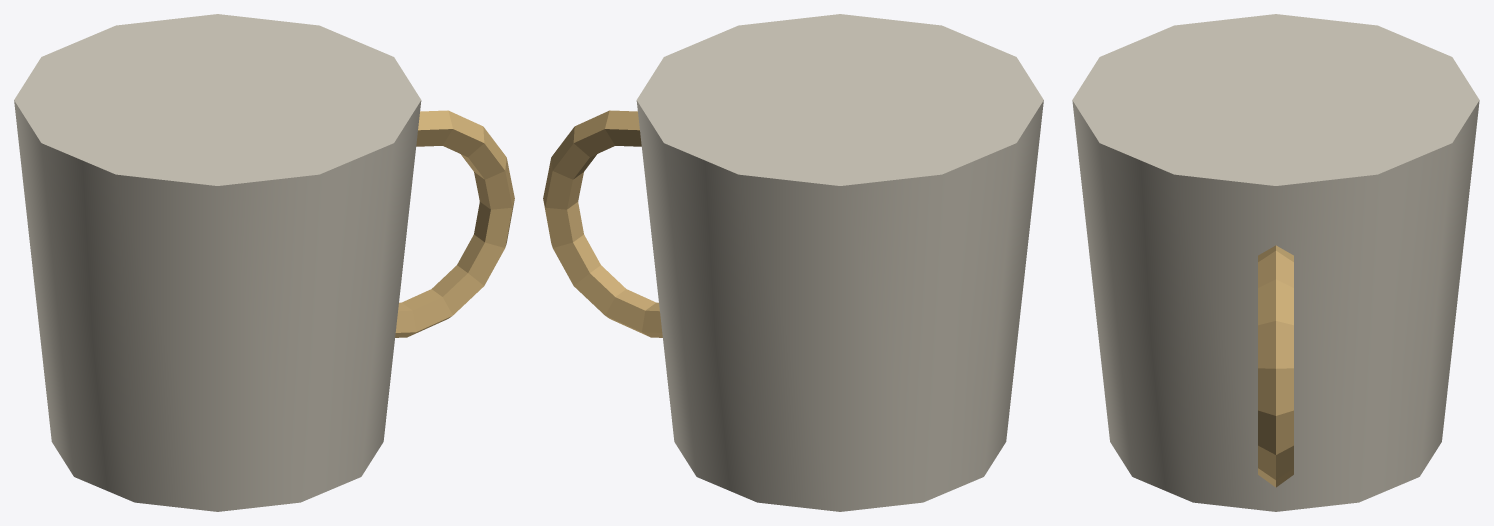
The model's file is cup.glb.
3 renders of one model, left to right at view 1: azimuth 30°, elevation 25°; view 2: azimuth 150°, elevation 25°; view 3: azimuth 270°, elevation 25°, orthographic.
Visible parts, largest first — view 1: cup; view 2: cup; view 3: cup.
Boxes of the visible parts, left/top/right/bottom form: cup: left=14, top=14, right=514, bottom=511; cup: left=543, top=14, right=1043, bottom=511; cup: left=1072, top=14, right=1479, bottom=511.
Size of the model in its own units: 0.3263 by 0.225 by 0.243.
